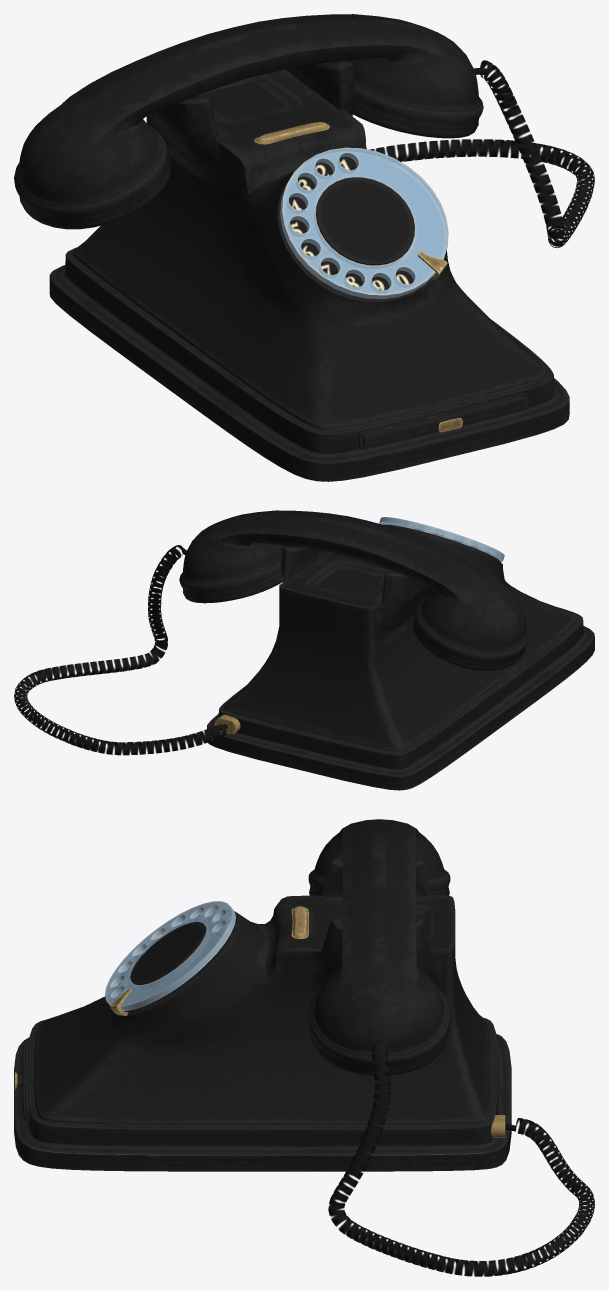
3 renders of one model, top to bottom at view 1: azimuth 30°, elevation 25°; view 2: azimuth 150°, elevation 25°; view 3: azimuth 270°, elevation 25°, orthographic. The views are drawn at different scales.
Visible parts, largest first — view 1: Phone; view 2: Phone; view 3: Phone.
Boxes of the visible parts, box(x1,y1,x2,y2) form: Phone: box(14, 14, 594, 481); Phone: box(14, 510, 594, 790); Phone: box(14, 819, 594, 1276).
Bounding box in the file's own units: 0.6053 × 0.26 × 0.5524.
Materials: 1 (1 with a texture image).
